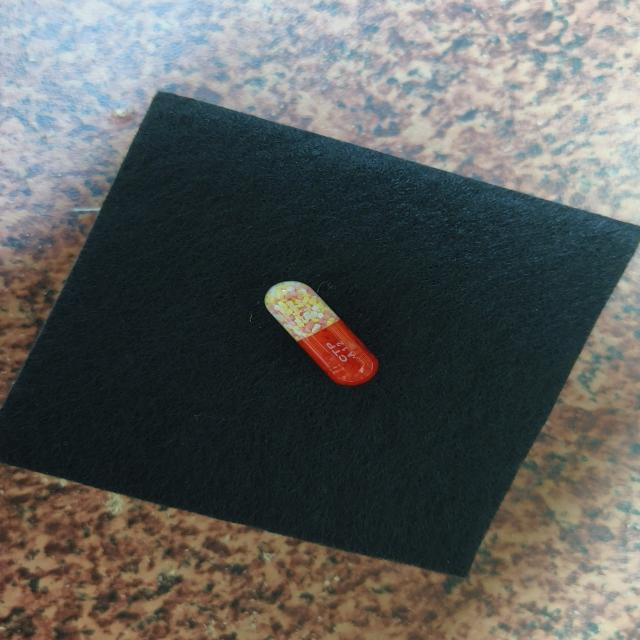Intact Capsule: (264, 281, 379, 386)
